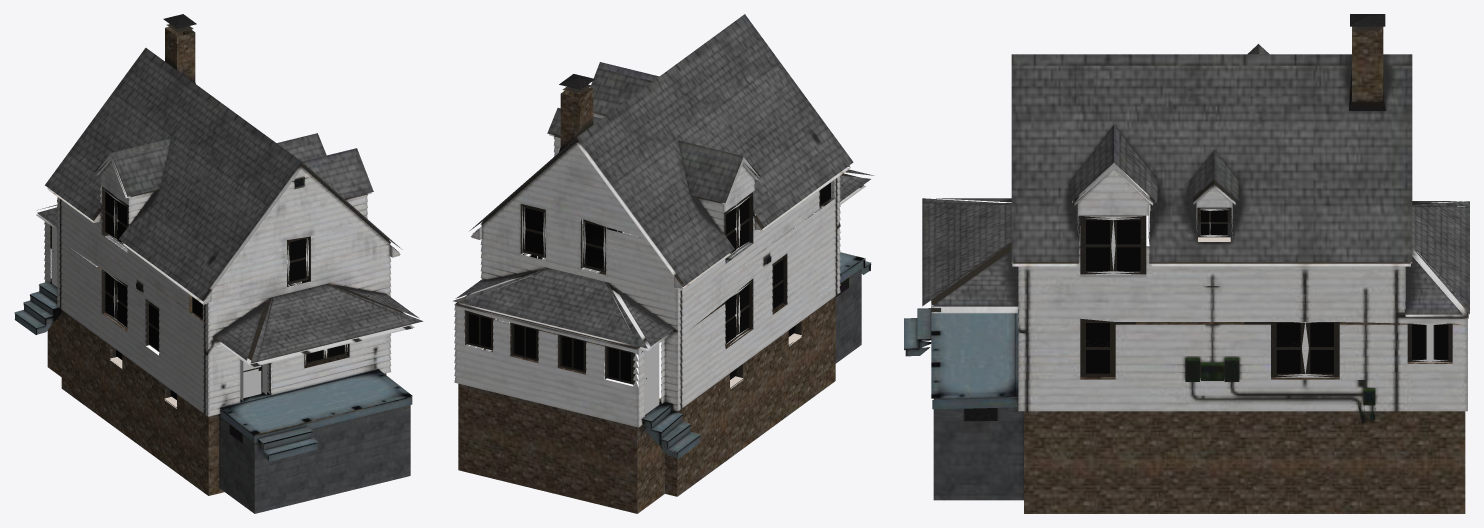
The model's file is frame_gable.glb.
The picture shows the model from 3 angles, left to right: view 1: azimuth 30°, elevation 25°; view 2: azimuth 150°, elevation 25°; view 3: azimuth 270°, elevation 25°; orthographic projection. The views are drawn at different scales.
Visible parts, largest first — view 1: frame_gable_lo; view 2: frame_gable_lo; view 3: frame_gable_lo.
Boxes of the visible parts, <box> form: frame_gable_lo: <box>14,14,423,513</box>; frame_gable_lo: <box>453,14,874,513</box>; frame_gable_lo: <box>904,14,1469,513</box>.
Size of the model in its own units: 6.63 by 10.47 by 11.86.
Materials: 1 (1 with a texture image).
